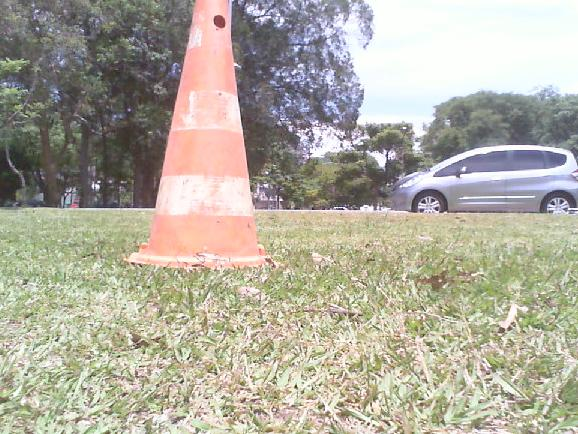0 cone: (122, 0, 271, 266)
